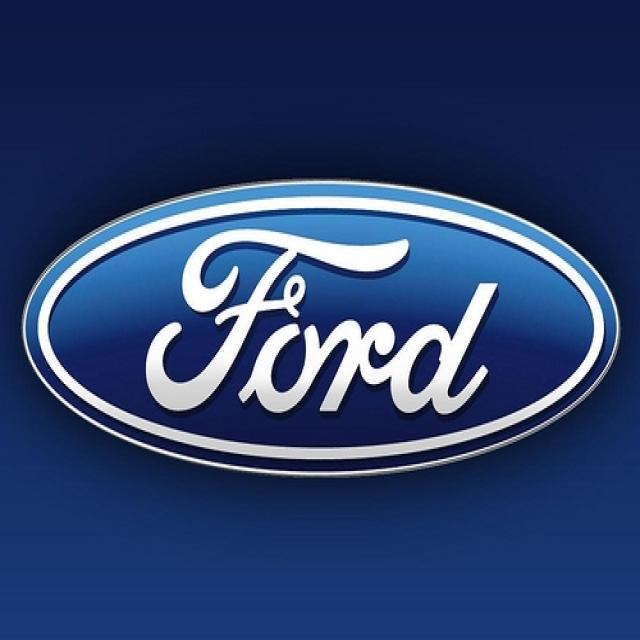ford: (18, 168, 630, 498)
